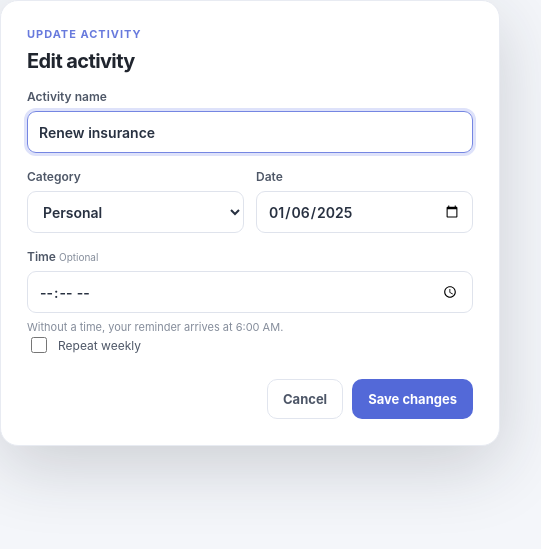
Test: ActivityForm › edits a task and shows validation for blank title and missing date
The width and height of the screenshot is (541, 549).
Clear the field labelled "Activity name". click: [250, 132]
box: left=27, top=111, right=473, bottom=153
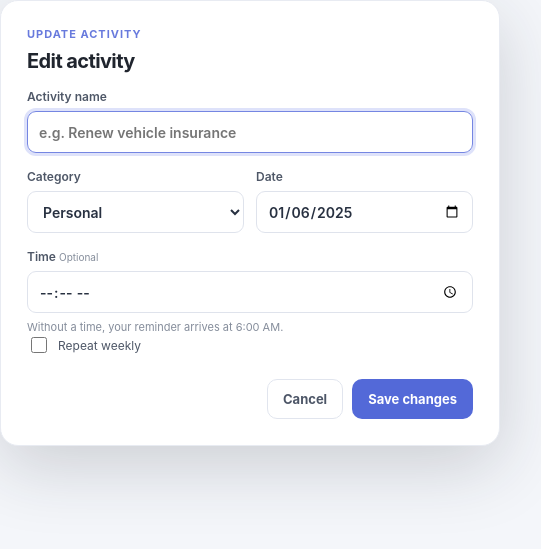
Clear the date field labelled "Date". click: [364, 212]
box: left=256, top=191, right=473, bottom=233
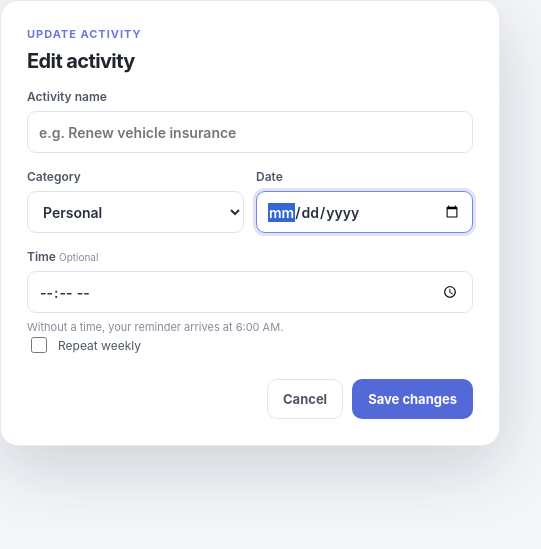
Click the button "Save changes". click: [413, 399]
box: left=352, top=379, right=473, bottom=419
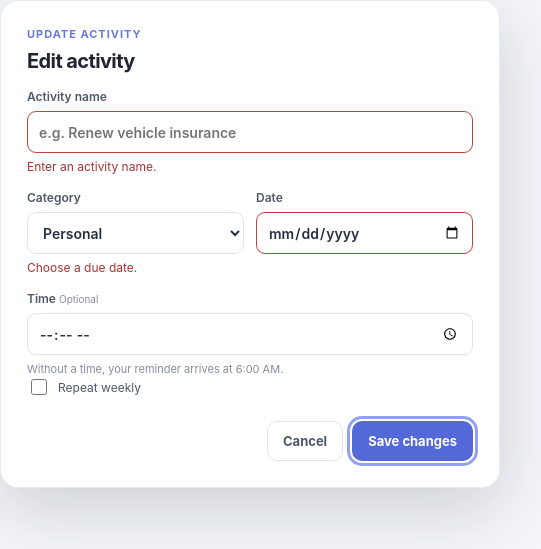
Check: the text "Enter an activity name." is shown, box left=27, top=159, right=156, bottom=174
Check: the text "Choose a due date." is shown, box left=27, top=260, right=137, bottom=275
